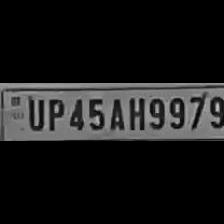4: (66, 95, 84, 131)
5: (85, 96, 105, 130)
7: (186, 94, 204, 130)
9: (165, 94, 185, 130), (146, 94, 164, 130), (206, 93, 222, 129)
A: (106, 95, 126, 131)
H: (126, 94, 146, 130)
P: (44, 95, 64, 131)
U: (24, 96, 43, 130)
